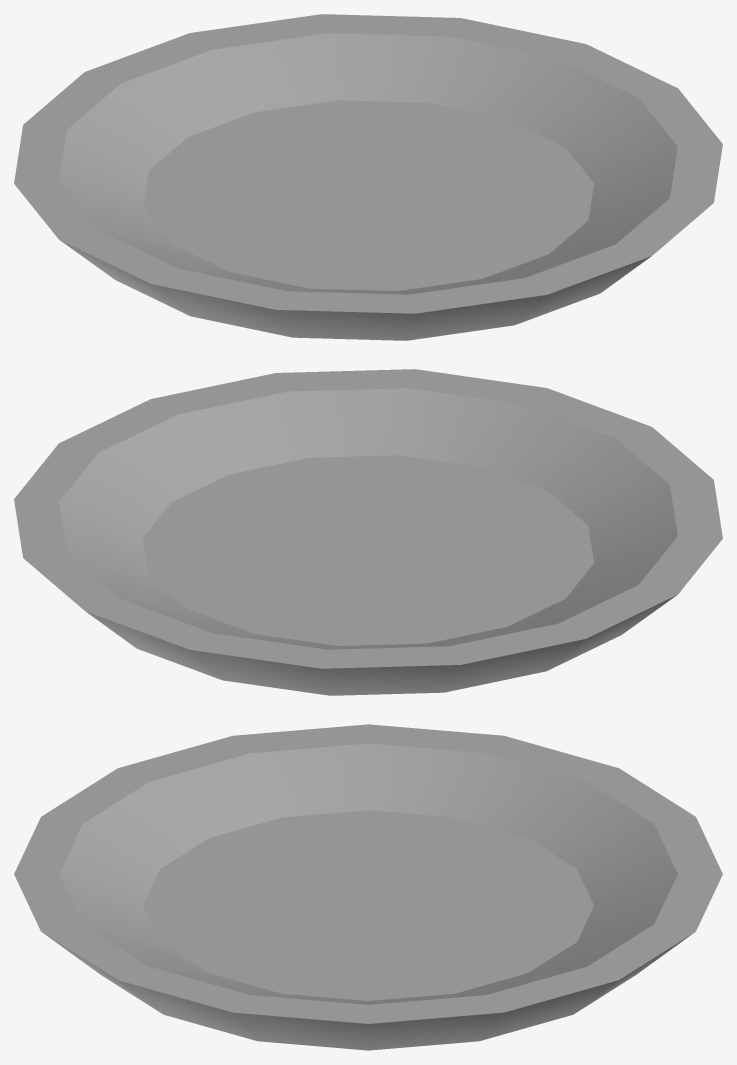
Rendered from Plate_01.fbx.
3 views of the same model, one above another, from view 1: azimuth 30°, elevation 25°; view 2: azimuth 150°, elevation 25°; view 3: azimuth 270°, elevation 25° (orthographic).
Parts seen in each view (by area): view 1: Plate_01; view 2: Plate_01; view 3: Plate_01.
Part boxes in pixels (x1,y1,x2,y2): Plate_01: (14,14,722,340); Plate_01: (14,369,722,695); Plate_01: (14,724,722,1050).
Size of the model in its own units: 0.298 by 0.0251 by 0.298.
